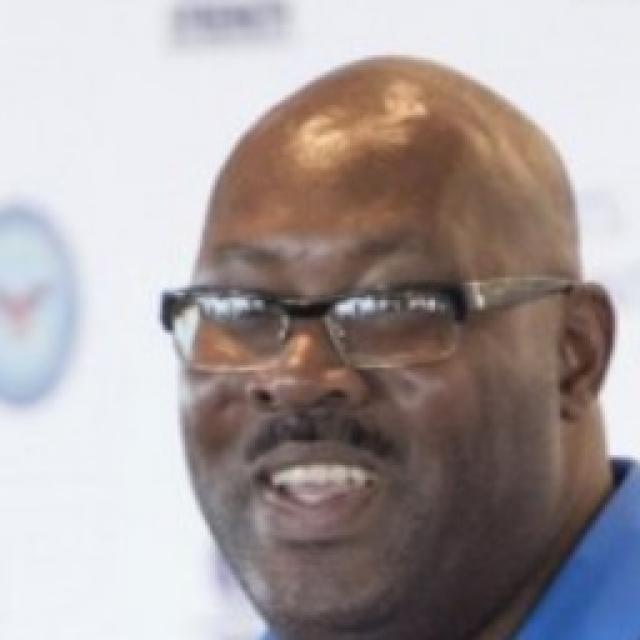glasses: (147, 271, 573, 380)
